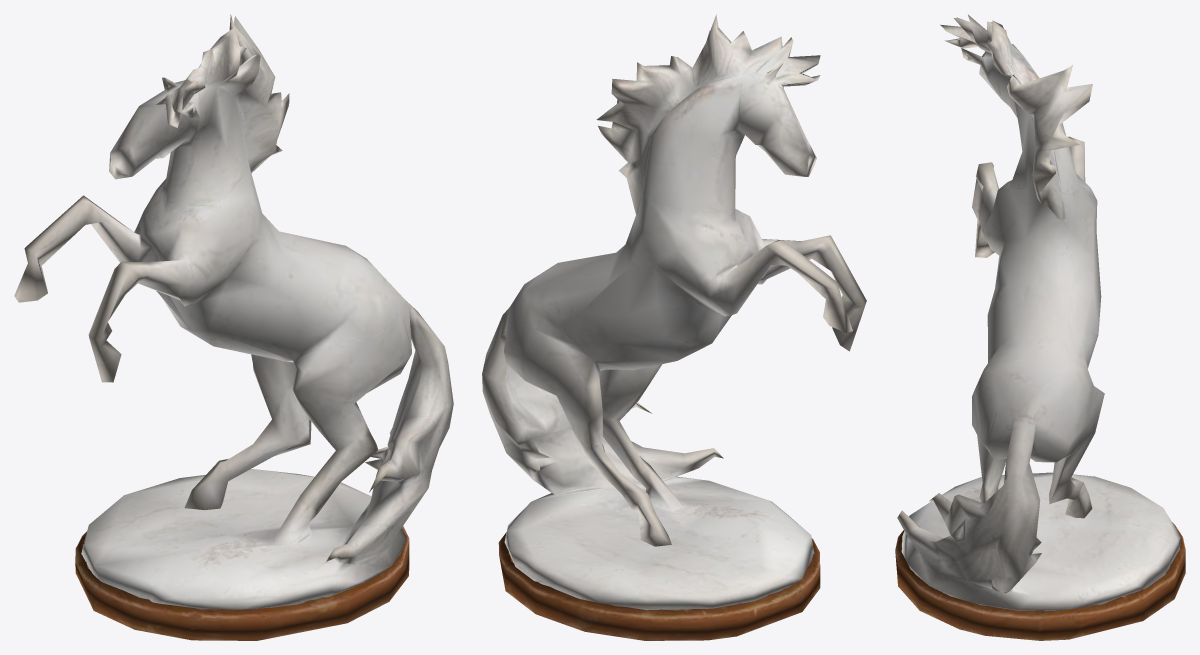
The model's file is horse_statue_01.glb.
The picture shows the model from 3 angles, left to right: view 1: azimuth 30°, elevation 25°; view 2: azimuth 150°, elevation 25°; view 3: azimuth 270°, elevation 25°; orthographic projection. The views are drawn at different scales.
Parts seen in each view (by area): view 1: horse_statue_01; view 2: horse_statue_01; view 3: horse_statue_01.
Part boxes in pixels (x1=…): horse_statue_01: x1=14, y1=14, x2=453, y2=640; horse_statue_01: x1=482, y1=14, x2=866, y2=640; horse_statue_01: x1=895, y1=14, x2=1185, y2=640.
Bounding box in the file's own units: 0.1624 × 0.22 × 0.1078.
Materials: 1 (1 with a texture image).
